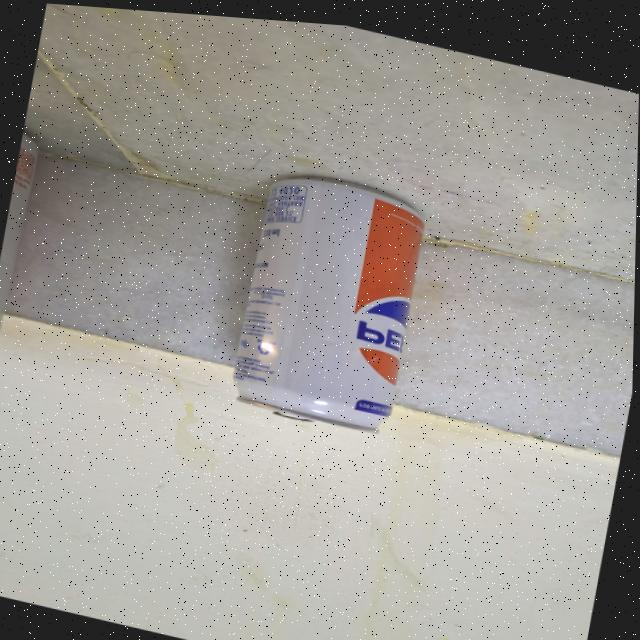Pepsi Retro: (217, 158, 444, 446)
